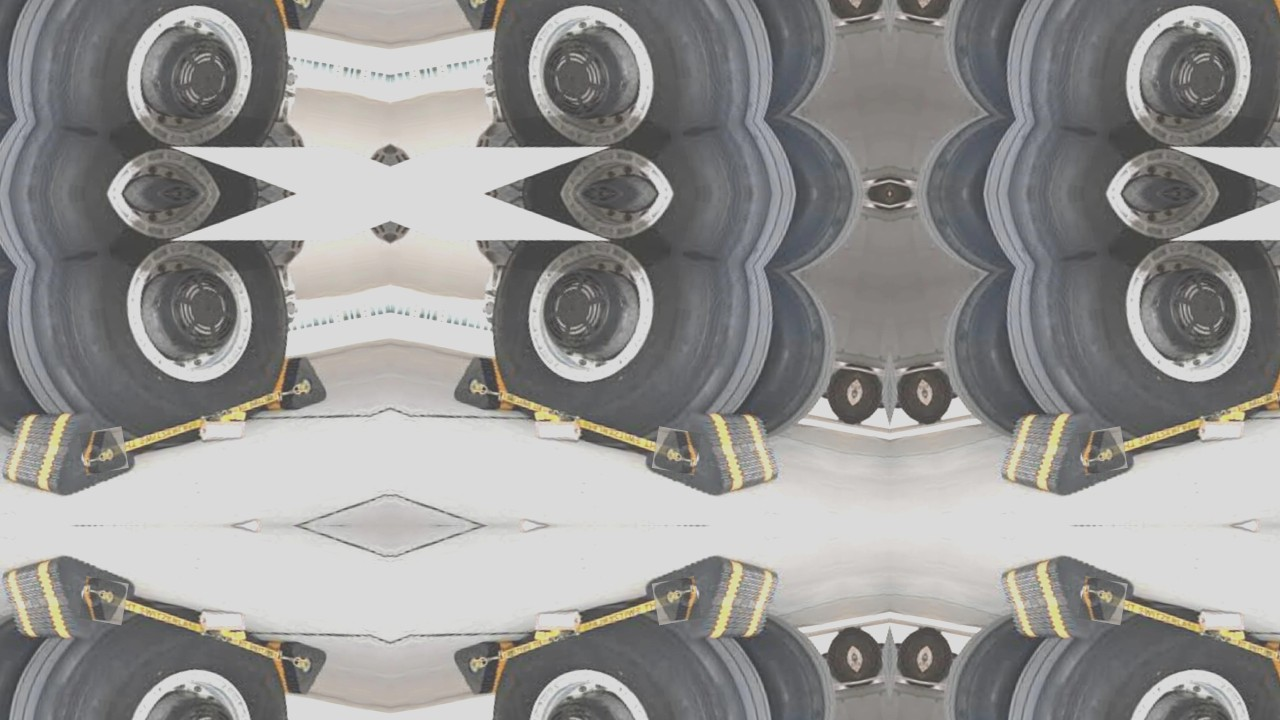chock: (639, 397, 789, 506), (991, 397, 1141, 506), (639, 546, 789, 655), (991, 546, 1141, 655), (0, 397, 141, 506), (0, 546, 141, 655), (268, 352, 329, 412), (451, 352, 512, 412), (268, 640, 329, 700), (451, 640, 512, 700), (79, 426, 128, 475), (652, 426, 701, 475), (1079, 426, 1128, 475), (79, 577, 128, 626), (652, 577, 701, 626), (1079, 577, 1128, 626), (268, 0, 329, 35), (451, 0, 512, 35), (1268, 352, 1280, 412), (1268, 640, 1280, 700), (1268, 0, 1280, 35)
wheel: (463, 221, 792, 462), (0, 221, 317, 462), (988, 221, 1280, 462), (463, 0, 792, 166), (0, 0, 317, 166), (988, 0, 1280, 166), (463, 590, 792, 720), (0, 590, 317, 720), (988, 590, 1280, 720), (498, 115, 826, 194), (498, 193, 826, 272), (954, 115, 1280, 194), (954, 193, 1280, 272), (0, 115, 282, 194), (0, 193, 282, 272), (723, 266, 846, 445), (934, 266, 1057, 445), (723, 0, 846, 121), (934, 0, 1057, 121), (723, 607, 846, 720), (934, 607, 1057, 720), (752, 104, 875, 194), (905, 104, 1028, 194), (752, 194, 875, 283), (905, 194, 1028, 283), (0, 266, 57, 445), (0, 0, 57, 121), (0, 607, 57, 720), (0, 104, 28, 194), (0, 194, 28, 283), (822, 366, 859, 423), (921, 366, 958, 423), (822, 629, 859, 686), (921, 629, 958, 686), (850, 371, 886, 428), (894, 371, 930, 428), (850, 624, 886, 681), (894, 624, 930, 681), (822, 0, 859, 21), (921, 0, 958, 21), (850, 0, 886, 16), (894, 0, 930, 16)
